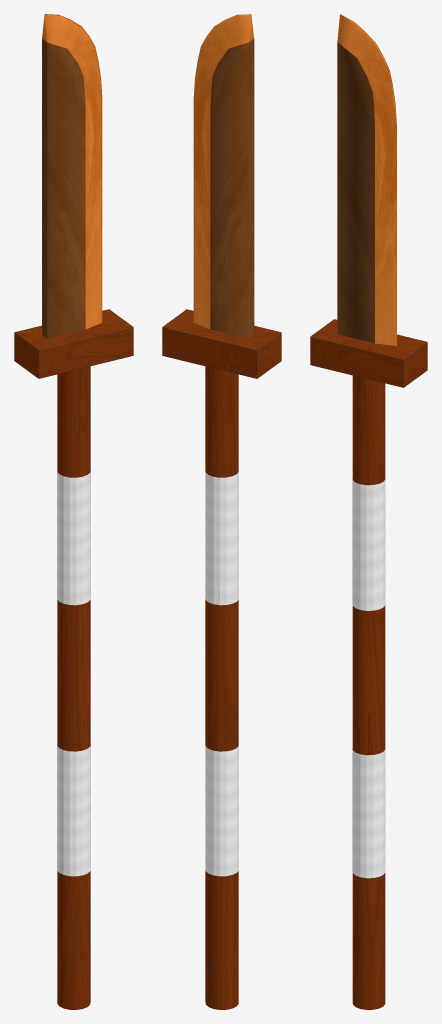
File: Crescent Blade.fbx
3 views of the same model, side by side, from view 1: azimuth 30°, elevation 25°; view 2: azimuth 150°, elevation 25°; view 3: azimuth 330°, elevation 25° (orthographic).
Visible parts, largest first — view 1: Blade, Handle, Crossguard, Grip_Top, Grip_Btm; view 2: Blade, Handle, Crossguard, Grip_Top, Grip_Btm; view 3: Blade, Handle, Crossguard, Grip_Top, Grip_Btm.
Boxes of the visible parts, <box> form: Blade: <box>42,14,102,338</box>; Handle: <box>57,366,90,1009</box>; Crossguard: <box>14,309,133,378</box>; Grip_Top: <box>57,470,90,605</box>; Grip_Btm: <box>57,743,90,876</box>; Blade: <box>193,14,254,338</box>; Handle: <box>205,366,238,1009</box>; Crossguard: <box>162,309,281,378</box>; Grip_Top: <box>205,471,238,605</box>; Grip_Btm: <box>205,744,238,876</box>; Blade: <box>337,14,396,345</box>; Handle: <box>352,375,385,1009</box>; Crossguard: <box>310,319,427,387</box>; Grip_Top: <box>352,477,385,610</box>; Grip_Btm: <box>352,747,385,878</box>.
Bounding box in the file's own units: 91.46 × 918 × 40.73.
Materials: 1 (1 with a texture image).
